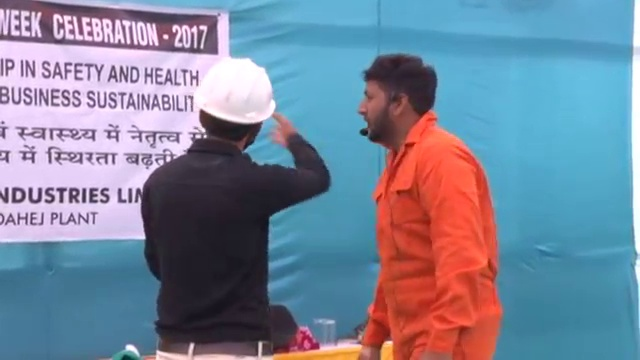helmet: (194, 56, 278, 125)
helmet_off: (357, 53, 440, 146)
helmet_on: (193, 55, 278, 153)
person: (132, 55, 330, 360), (352, 49, 507, 360)
